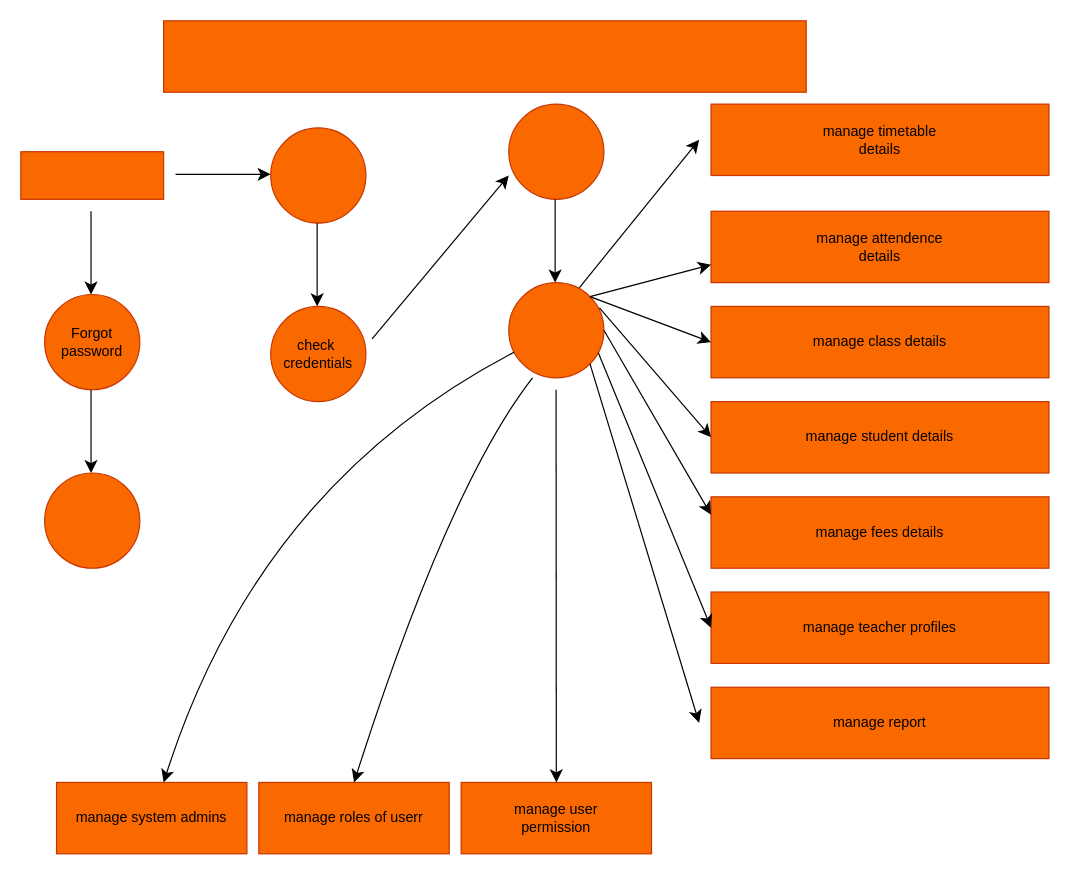
Image size: 1070x875. Some labels were removed from this diagram. Here are the shapes that lost their labels. From the top down, the centre of each, then its label:
At point 484,56: "student information system".
At point 556,151: "check r roles of access".
At point 92,175: "Admin".
At point 318,175: "llogin to system".
At point 556,329: "manage modules".
At point 91,520: "send email to user".
